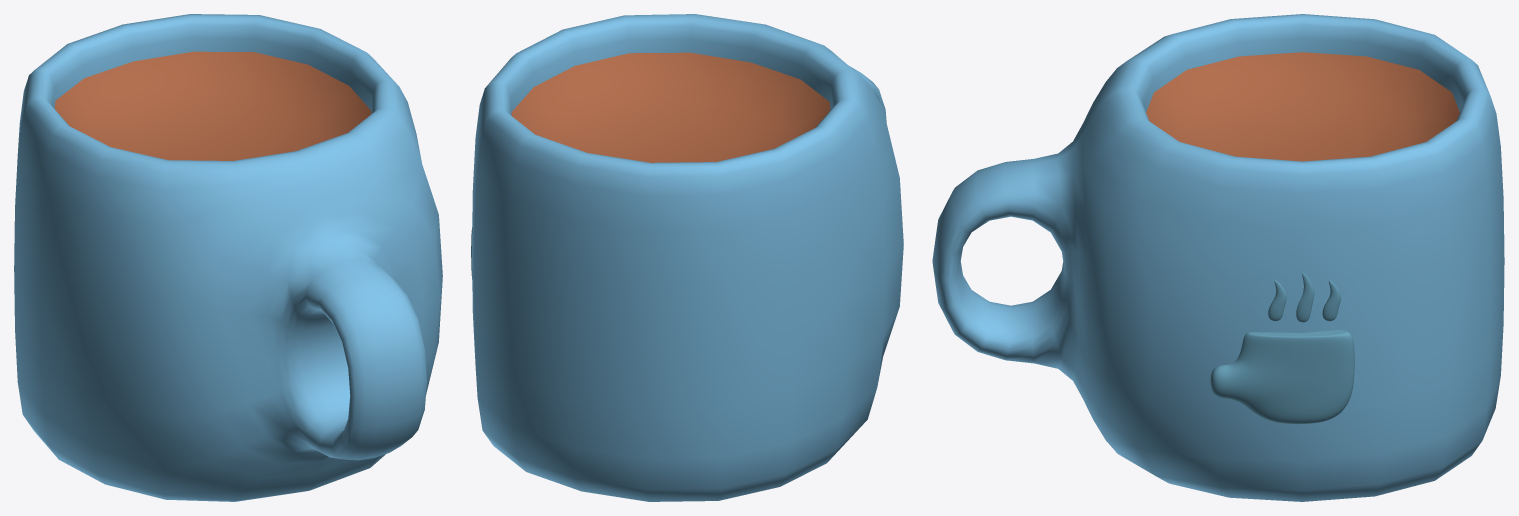
File: CoffeeWW 1.fbx
The picture shows the model from 3 angles, left to right: view 1: azimuth 30°, elevation 25°; view 2: azimuth 150°, elevation 25°; view 3: azimuth 270°, elevation 25°; orthographic projection.
Visible parts, largest first — view 1: Cube.001; view 2: Cube.001; view 3: Cube.001.
Part boxes in pixels (x1,y1,x2,y2): Cube.001: (14,14,442,501); Cube.001: (471,14,903,501); Cube.001: (932,14,1504,501).
Bounding box in the file's own units: 19.67 × 17.87 × 26.97.
